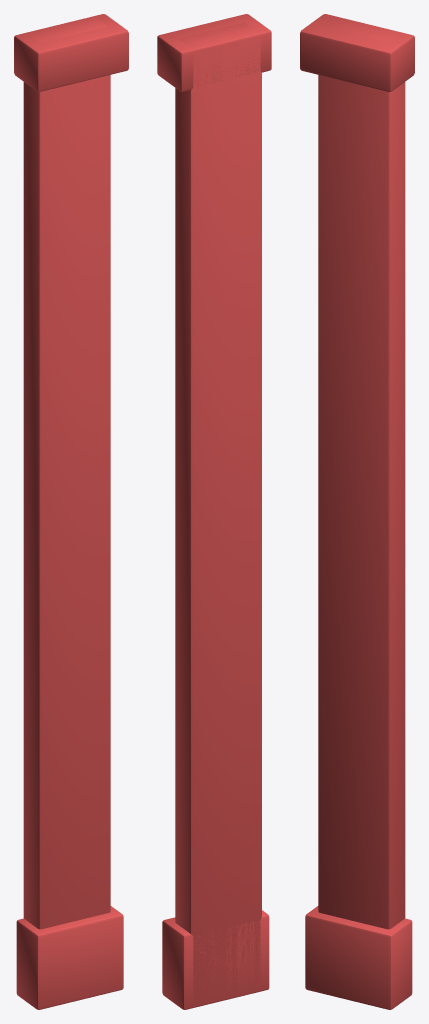
The model's file is pilastre.glb.
3 renders of one model, left to right at view 1: azimuth 30°, elevation 25°; view 2: azimuth 210°, elevation 25°; view 3: azimuth 330°, elevation 25°, orthographic.
Parts seen in each view (by area): view 1: pilastre; view 2: pilastre; view 3: pilastre.
Boxes of the visible parts, bbox=[...] form: pilastre: bbox=[14, 14, 128, 1009]; pilastre: bbox=[157, 14, 271, 1009]; pilastre: bbox=[300, 14, 414, 1009].
Size of the model in its own units: 0.38 by 3.8 by 0.18.
